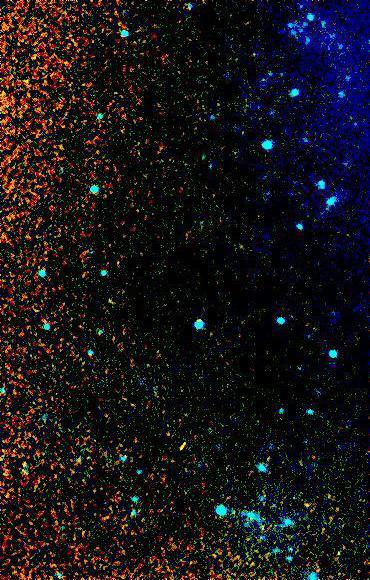star: (288, 495, 318, 525)
